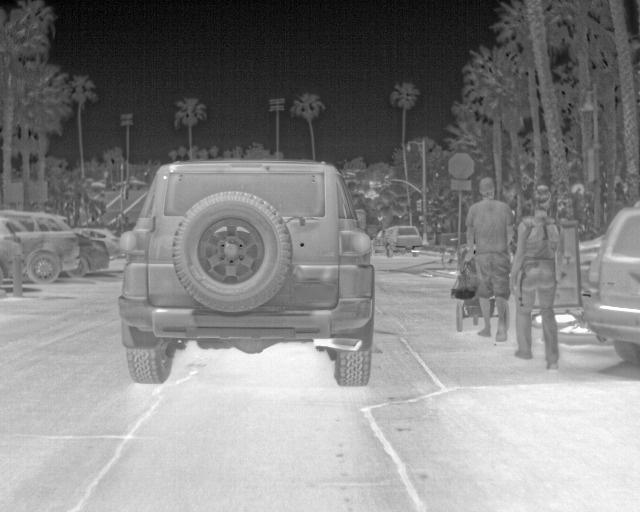bicycle: (121, 156, 378, 382), (577, 205, 637, 363), (0, 209, 82, 289), (576, 229, 602, 296), (74, 230, 108, 278), (382, 223, 421, 257)
empty: (510, 180, 560, 369), (465, 173, 516, 344)
